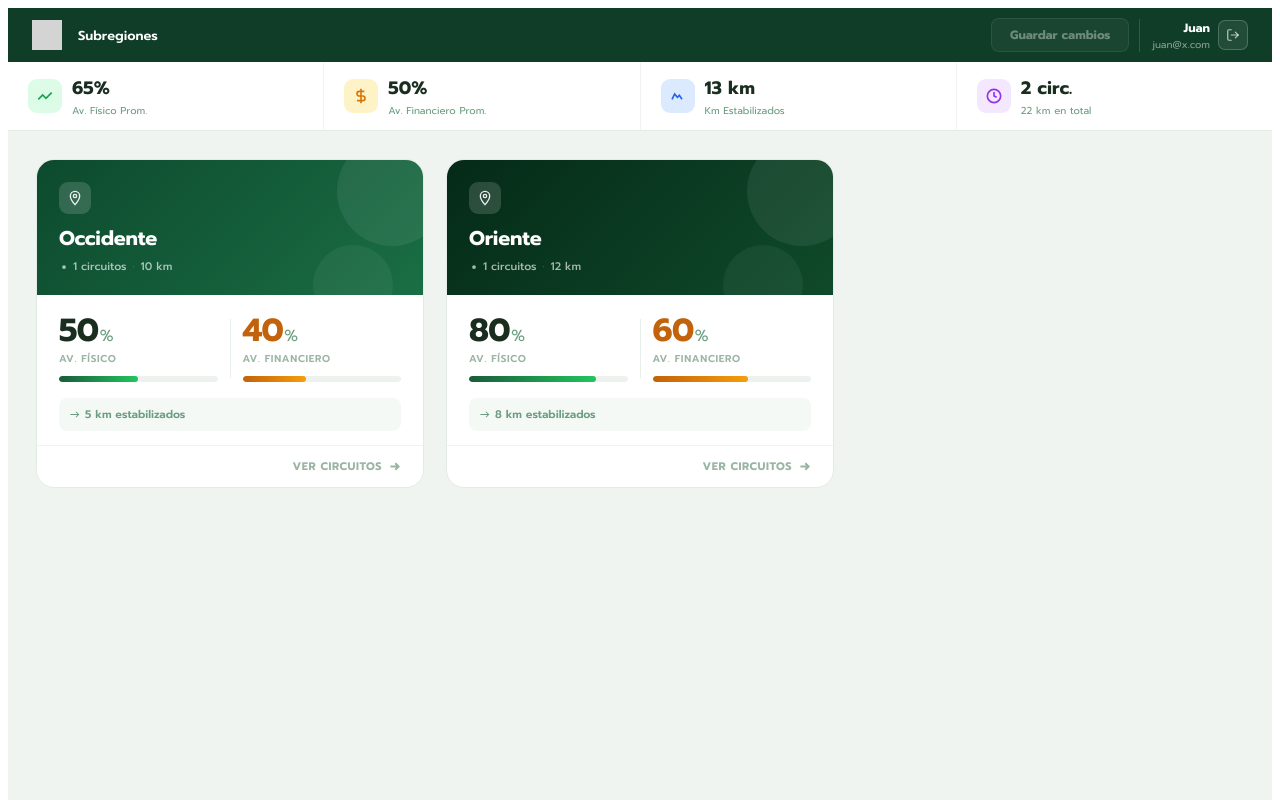
AdminGeoJsonView — con sesión autenticada › muestra error de sesión expirada y cierra sesión si el guardado responde 401
Click the element with class "subcard" that starts with "Occidente": (230, 324) [36, 159, 424, 488]
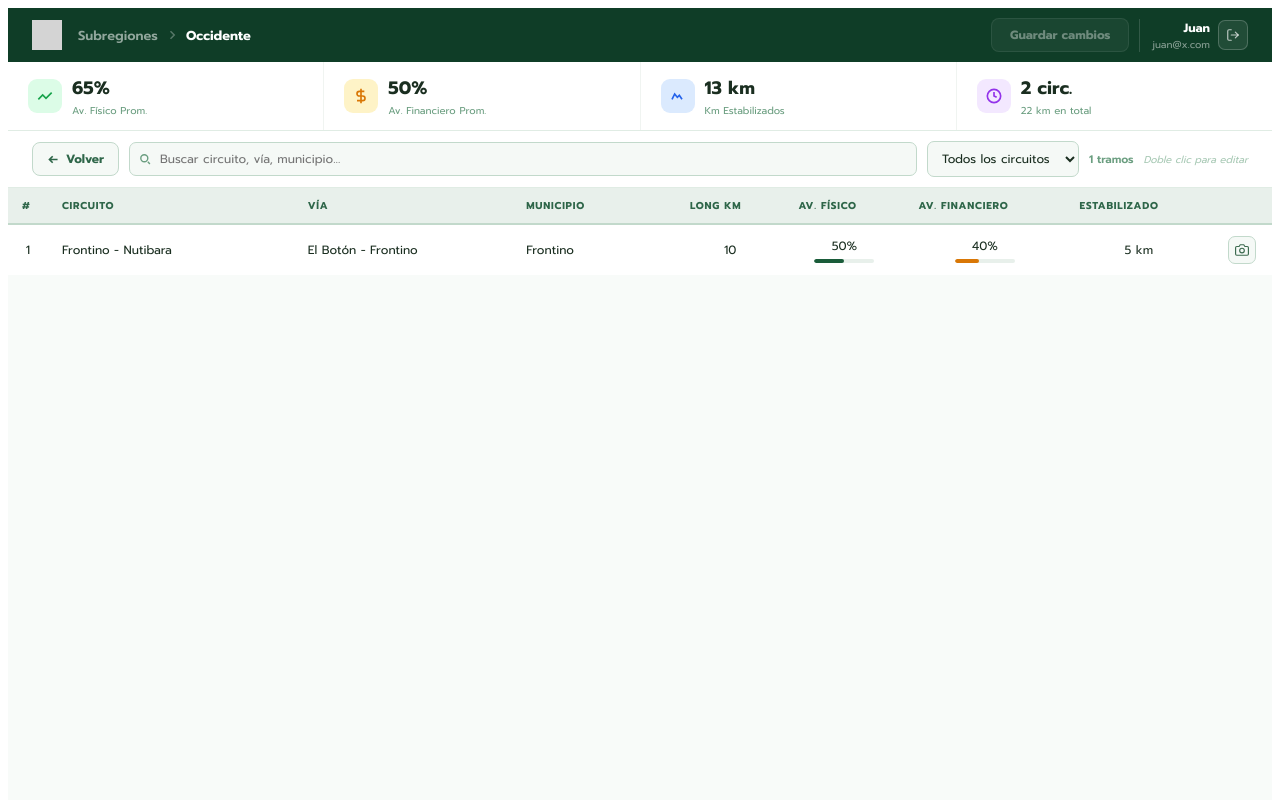
Double-click the row with class "tbl-row": (640, 250) [8, 225, 1272, 275]
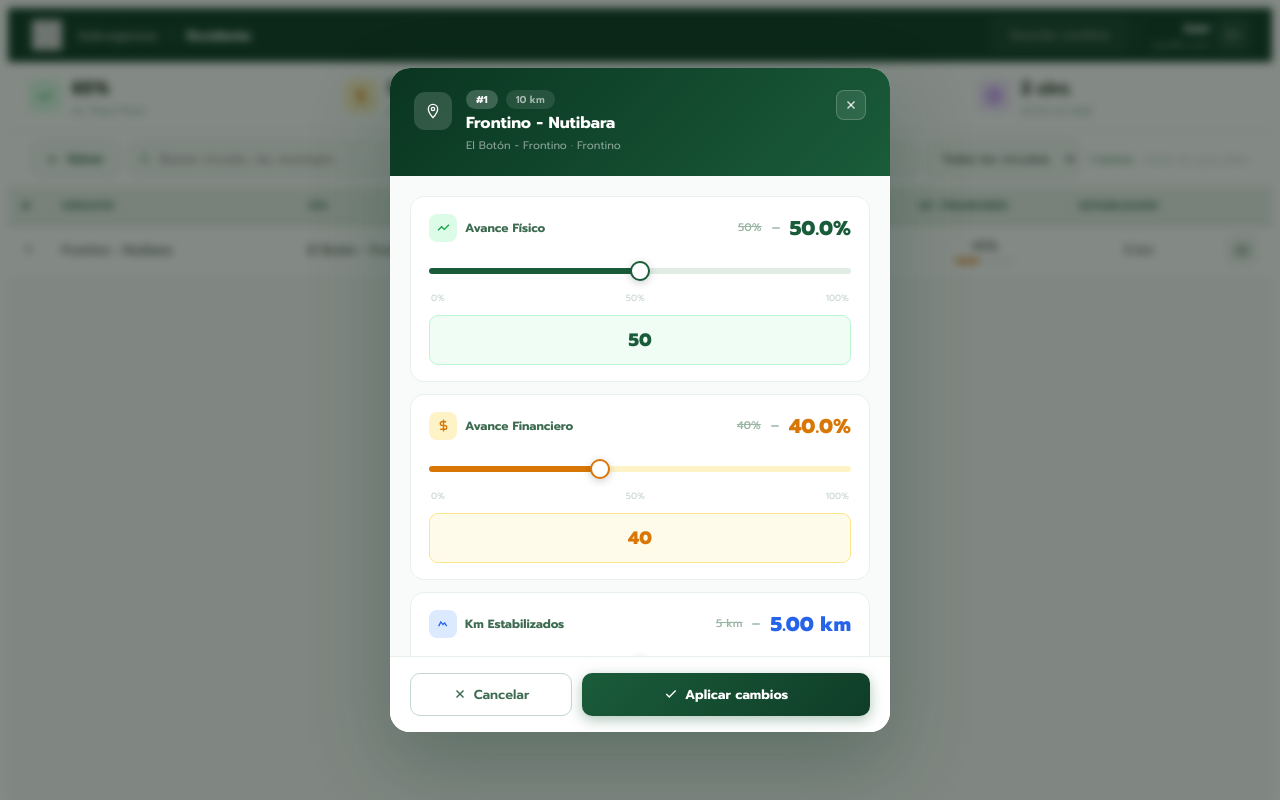
Replace the text in the number field with class "num-field--fis" with "90": (640, 340) [429, 315, 851, 365]
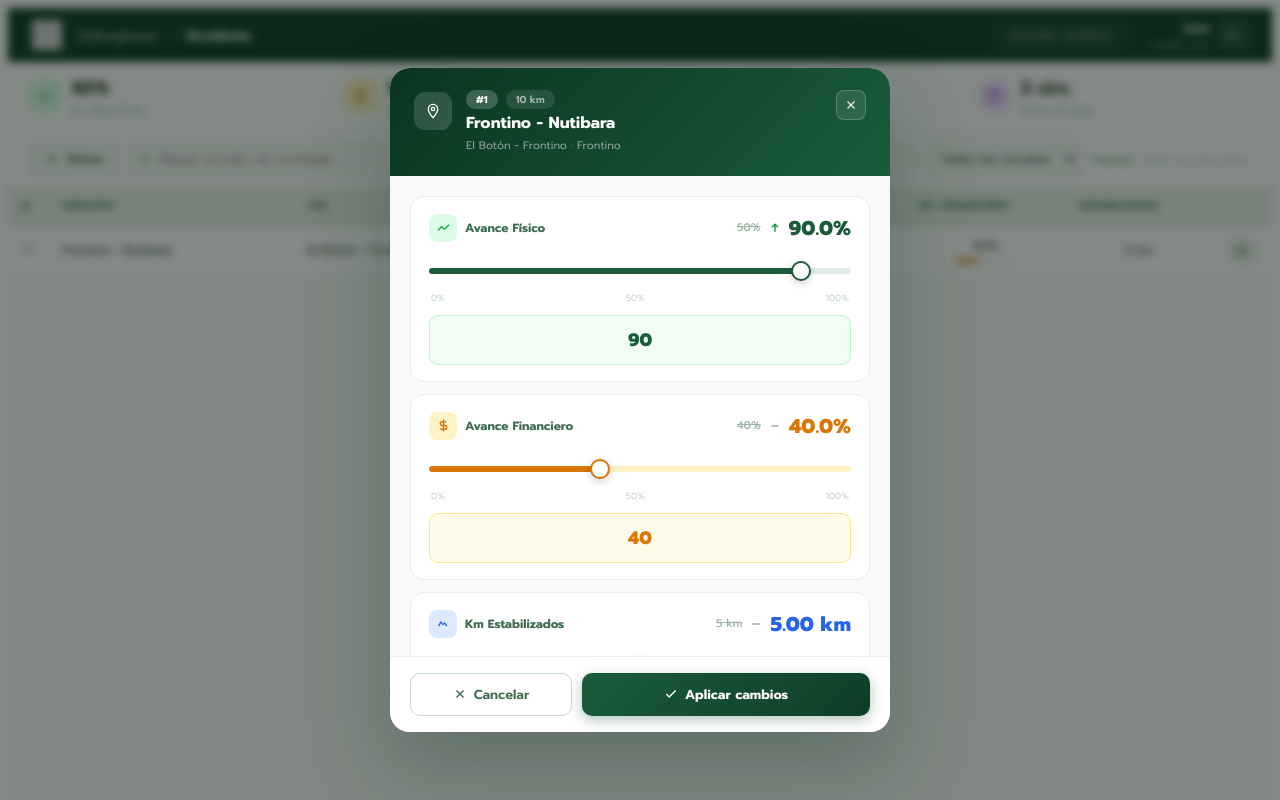
Click the button with class "btn-drawer-apply": (726, 694) [582, 673, 870, 716]
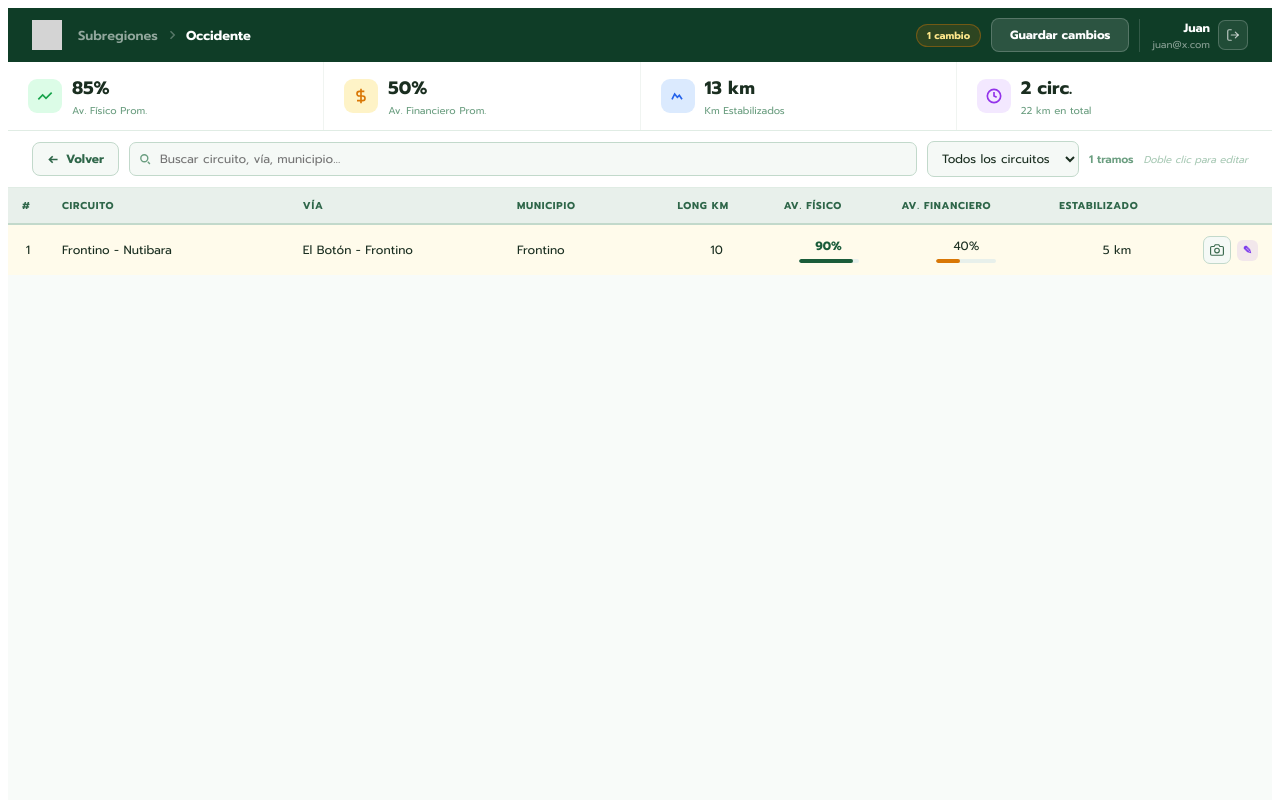
Click the button with class "btn-save": (1060, 35) [991, 18, 1130, 52]
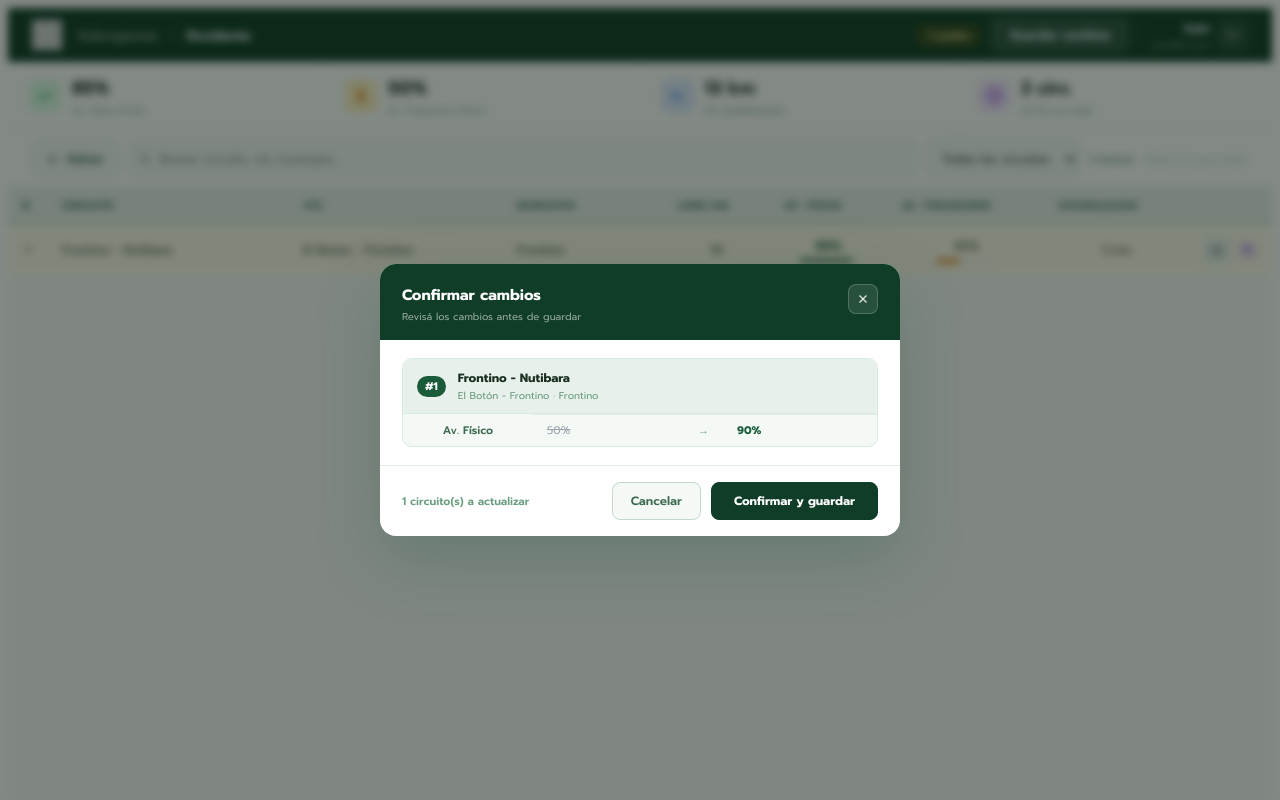
Click the button with class "btn-confirm-save": (794, 501) [711, 482, 878, 520]
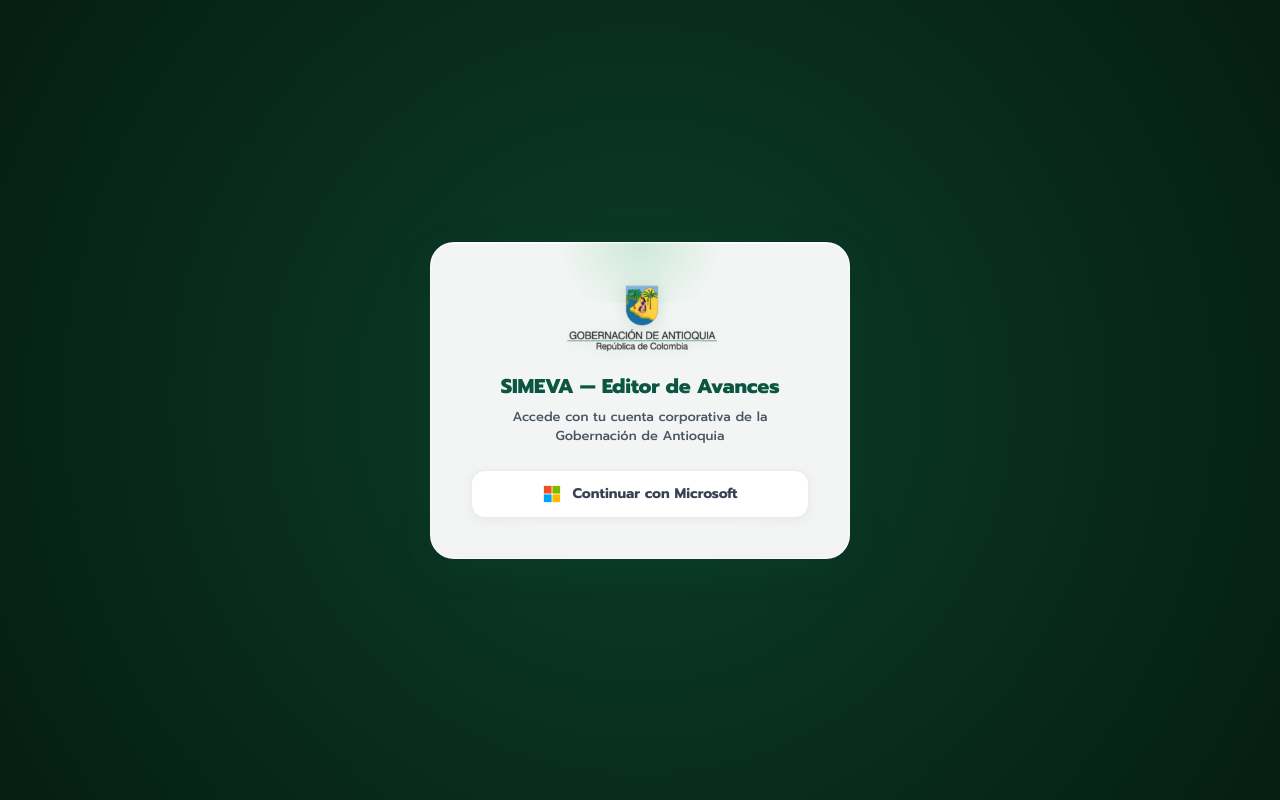
Expected: the element with class "login-overlay" is shown
